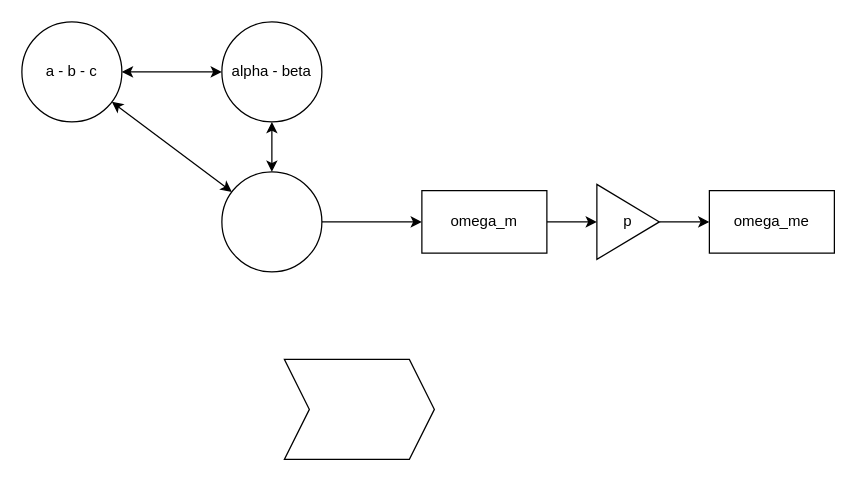
Some shapes in this 856 by 481 pixel diagram are drawn without their labels. The shapes that lost their labels are listed below. From the top down, each one's centre as x and y in pixels, then its label:
the point at 271,221: d - q
the point at 358,408: a - b - c to d - q
